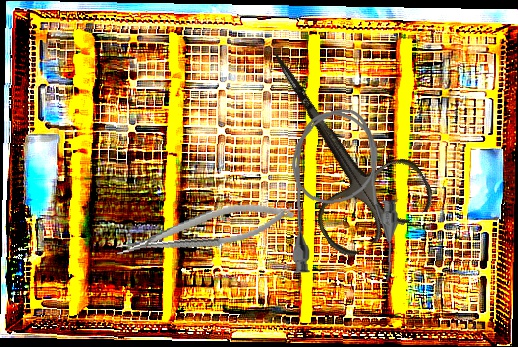Cannula: (284, 106, 402, 286)
Iris Scissors: (228, 20, 440, 264)
Needle Holder: (112, 195, 297, 264)
